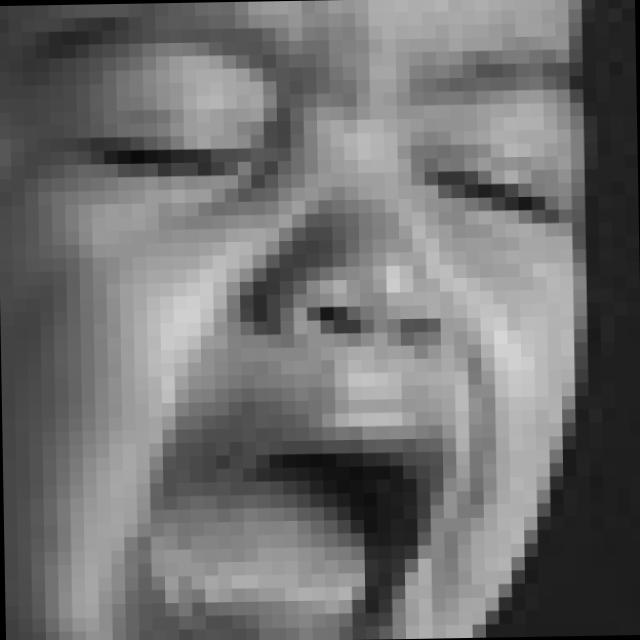sad: (5, 0, 580, 640)
